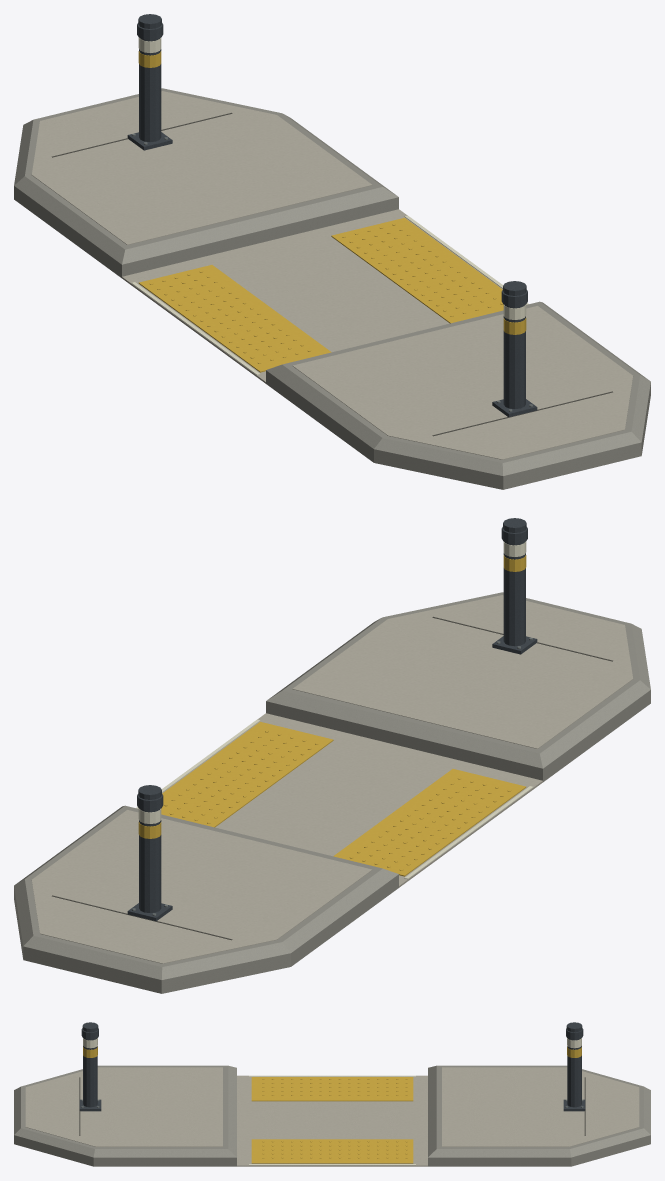
3 views of the same model, one above another, from view 1: azimuth 30°, elevation 25°; view 2: azimuth 150°, elevation 25°; view 3: azimuth 270°, elevation 25° (orthographic). The views are drawn at different scales.
Parts seen in each view (by area): view 1: VIS_Island_North_PavedTop, VIS_Island_South_PavedTop, VIS_Crossing_Flush_Paving_2x1p8, VIS_Island_South_ChamferedCurb, VIS_Island_North_ChamferedCurb, VIS_Tactile_West_Approach_Panel, VIS_Tactile_East_Approach_Panel, VIS_Bollard_North_Column, VIS_Bollard_South_Column, VIS_Tactile_West_Approach_Raised_DetectableDomes, VIS_Tactile_East_Approach_Raised_DetectableDomes; view 2: VIS_Island_South_PavedTop, VIS_Island_North_PavedTop, VIS_Crossing_Flush_Paving_2x1p8, VIS_Island_North_ChamferedCurb, VIS_Island_South_ChamferedCurb, VIS_Tactile_West_Approach_Panel, VIS_Tactile_East_Approach_Panel, VIS_Bollard_South_Column, VIS_Bollard_North_Column, VIS_Tactile_West_Approach_Raised_DetectableDomes, VIS_Tactile_East_Approach_Raised_DetectableDomes; view 3: VIS_Island_North_PavedTop, VIS_Island_South_PavedTop, VIS_Crossing_Flush_Paving_2x1p8, VIS_Island_North_ChamferedCurb, VIS_Island_South_ChamferedCurb, VIS_Tactile_West_Approach_Panel, VIS_Tactile_East_Approach_Panel, VIS_Bollard_North_Column, VIS_Bollard_South_Column, VIS_Tactile_West_Approach_Raised_DetectableDomes, VIS_Tactile_East_Approach_Raised_DetectableDomes, VIS_Crossing_EdgeGuide_W (+1 smaller).
Part boxes in pixels (x1,y1,x2,y2): VIS_Island_North_PavedTop: (31, 91, 372, 244); VIS_Island_South_PavedTop: (292, 306, 633, 459); VIS_Crossing_Flush_Paving_2x1p8: (122, 209, 502, 383); VIS_Island_South_ChamferedCurb: (266, 301, 650, 489); VIS_Island_North_ChamferedCurb: (14, 88, 398, 278); VIS_Tactile_West_Approach_Panel: (138, 265, 331, 372); VIS_Tactile_East_Approach_Panel: (331, 217, 503, 323); VIS_Bollard_North_Column: (139, 38, 161, 142); VIS_Bollard_South_Column: (503, 305, 525, 408); VIS_Tactile_West_Approach_Raised_DetectableDomes: (149, 270, 311, 363); VIS_Tactile_East_Approach_Raised_DetectableDomes: (342, 223, 502, 316); VIS_Island_South_PavedTop: (292, 595, 633, 748); VIS_Island_North_PavedTop: (31, 810, 372, 963); VIS_Crossing_Flush_Paving_2x1p8: (162, 713, 542, 887); VIS_Island_North_ChamferedCurb: (14, 805, 398, 993); VIS_Island_South_ChamferedCurb: (266, 592, 650, 782); VIS_Tactile_West_Approach_Panel: (333, 769, 526, 876); VIS_Tactile_East_Approach_Panel: (161, 721, 333, 827); VIS_Bollard_South_Column: (503, 542, 525, 646); VIS_Bollard_North_Column: (139, 809, 161, 912); VIS_Tactile_West_Approach_Raised_DetectableDomes: (349, 777, 511, 870); VIS_Tactile_East_Approach_Raised_DetectableDomes: (164, 730, 318, 823); VIS_Island_North_PavedTop: (442, 1067, 639, 1146); VIS_Island_South_PavedTop: (25, 1067, 222, 1146); VIS_Crossing_Flush_Paving_2x1p8: (237, 1075, 427, 1166); VIS_Island_North_ChamferedCurb: (428, 1065, 650, 1166); VIS_Island_South_ChamferedCurb: (14, 1065, 236, 1166); VIS_Tactile_West_Approach_Panel: (251, 1077, 413, 1101); VIS_Tactile_East_Approach_Panel: (251, 1139, 413, 1163); VIS_Bollard_North_Column: (567, 1038, 581, 1107); VIS_Bollard_South_Column: (83, 1038, 97, 1107); VIS_Tactile_West_Approach_Raised_DetectableDomes: (262, 1078, 407, 1095); VIS_Tactile_East_Approach_Raised_DetectableDomes: (262, 1141, 407, 1158); VIS_Crossing_EdgeGuide_W: (249, 1075, 415, 1076).
Bounding box in the file's own units: 2 × 0.9995 × 6.
7 materials, 7 textured.
